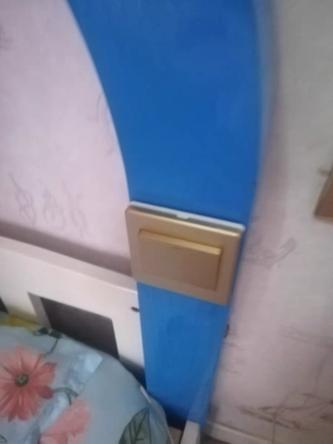switch: (137, 235, 222, 293)
